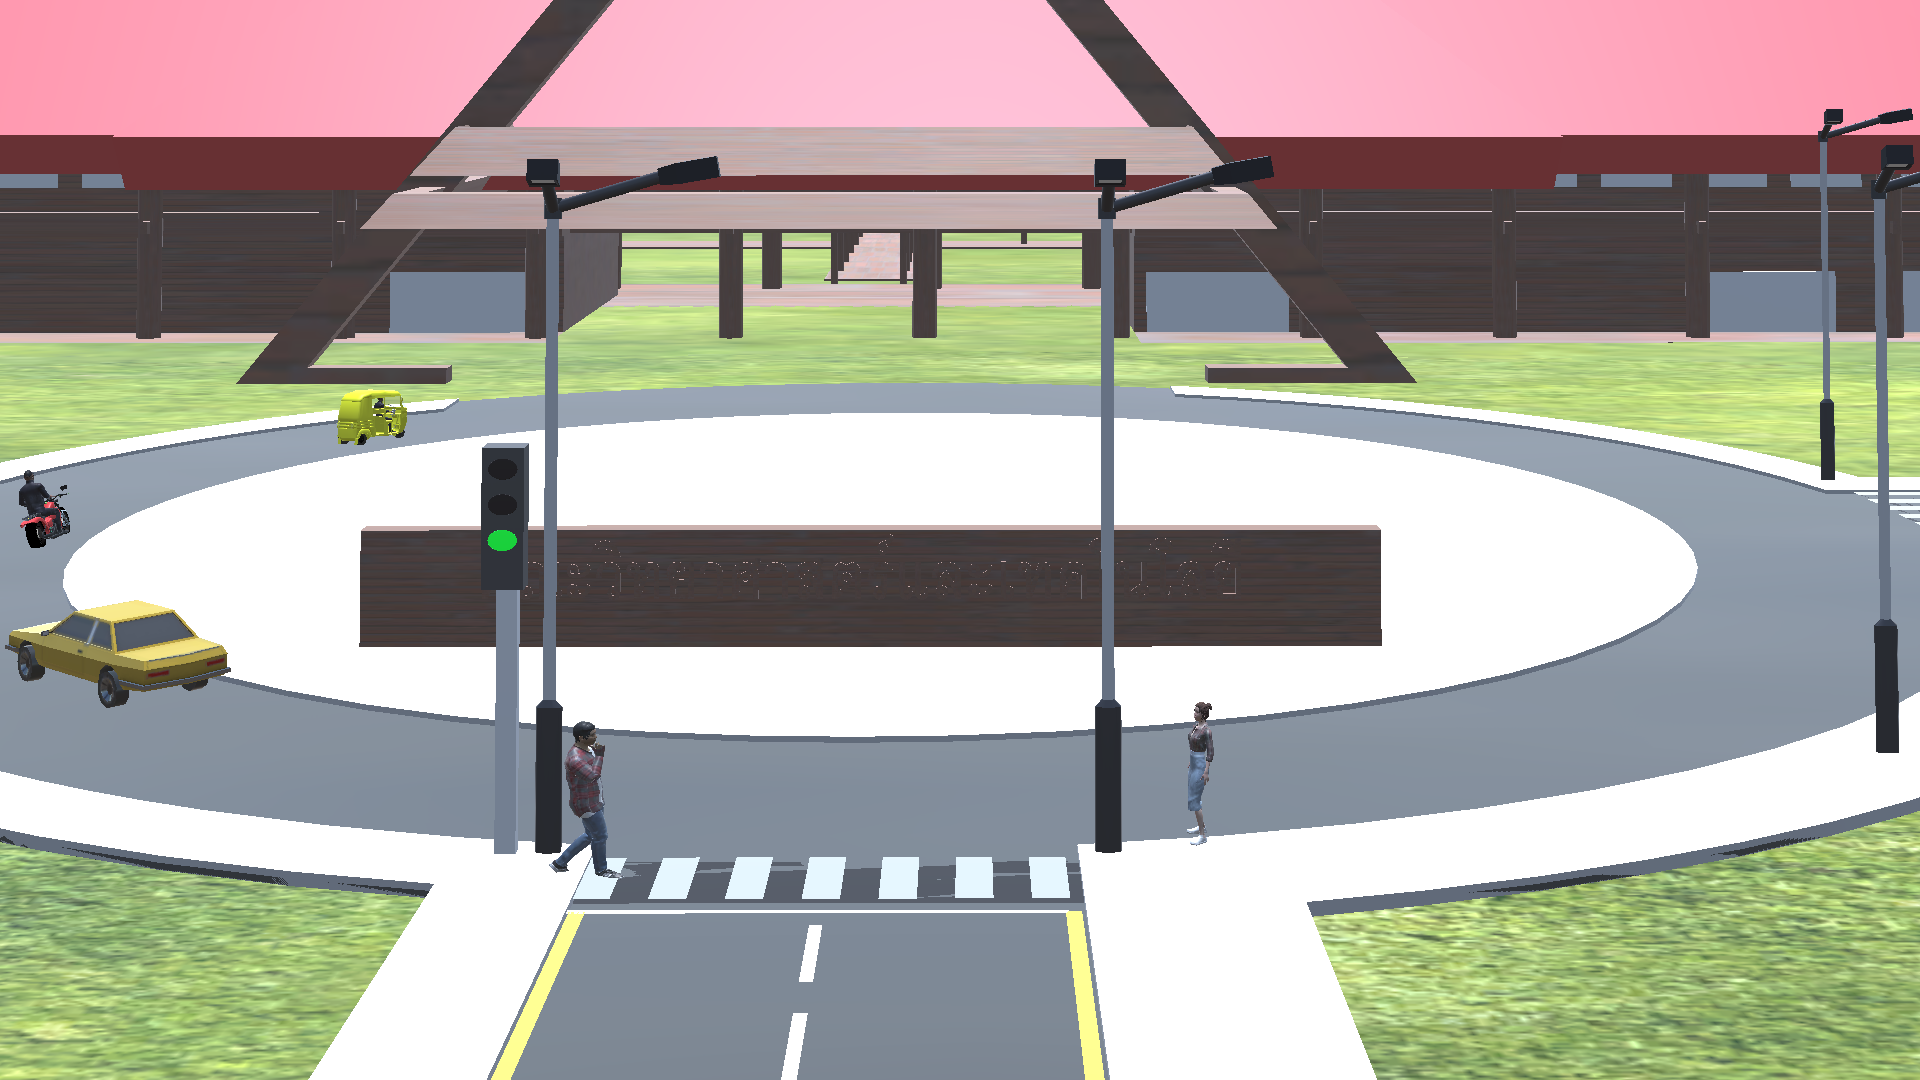pedestrian: (549, 717, 633, 886), (1178, 697, 1221, 859)
